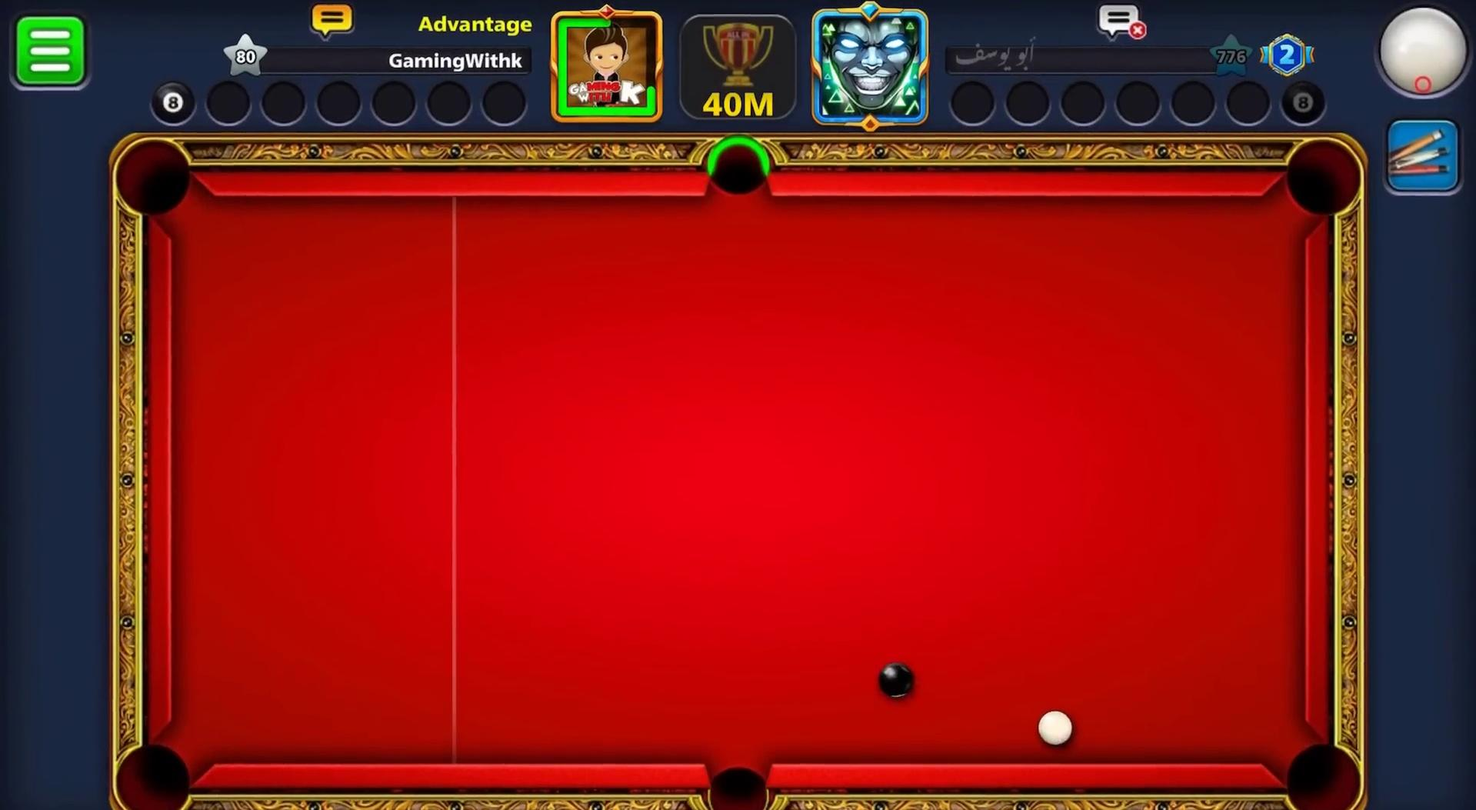Ball: (868, 658, 925, 704)
Hole: (1273, 125, 1368, 233), (1267, 725, 1380, 809), (113, 136, 195, 216), (702, 128, 774, 213), (690, 748, 783, 808), (115, 742, 191, 808)
Play_Area: (172, 195, 1301, 765)
Spin: (1371, 0, 1474, 112)
White: (1031, 703, 1081, 750)
